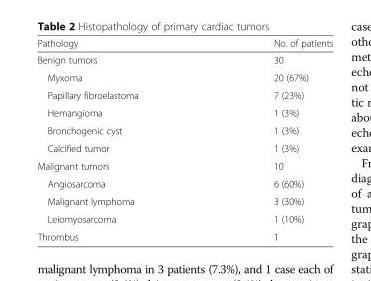table: (36, 37, 332, 242)
table column: (36, 37, 205, 242), (205, 37, 332, 242)
table column header: (36, 37, 332, 51)
table row: (36, 85, 332, 103), (36, 103, 332, 121), (36, 121, 332, 139), (36, 156, 332, 174), (36, 174, 332, 192), (36, 209, 332, 227), (36, 51, 332, 68), (36, 68, 332, 85), (36, 139, 332, 156), (36, 192, 332, 209), (36, 227, 332, 242), (36, 37, 332, 51)
